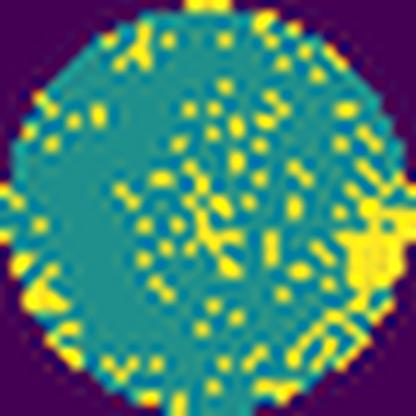Edge-Loc: (326, 172, 416, 328)
